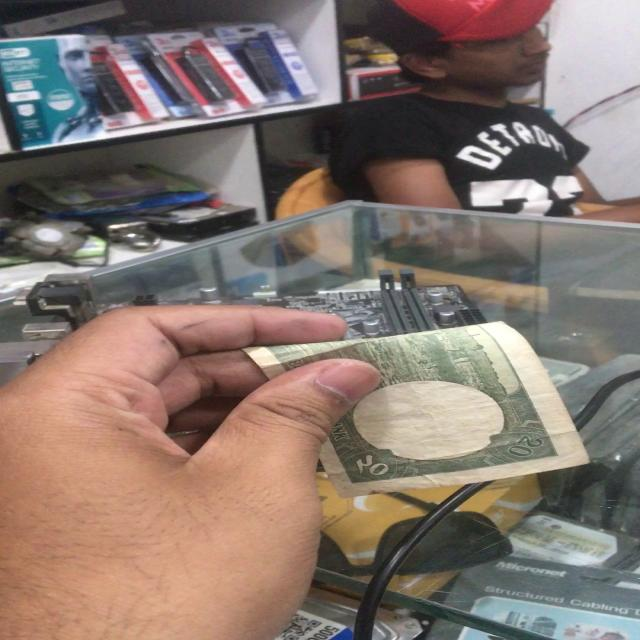Taka: (277, 342, 584, 491)
